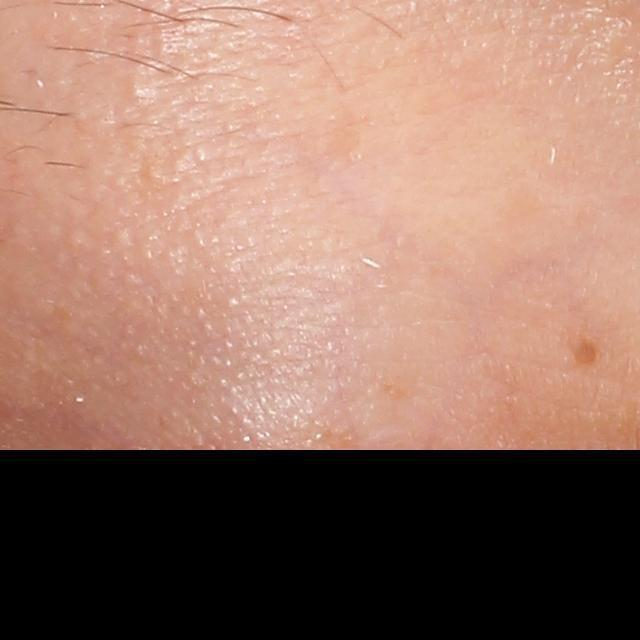melasma: (566, 324, 606, 374)
